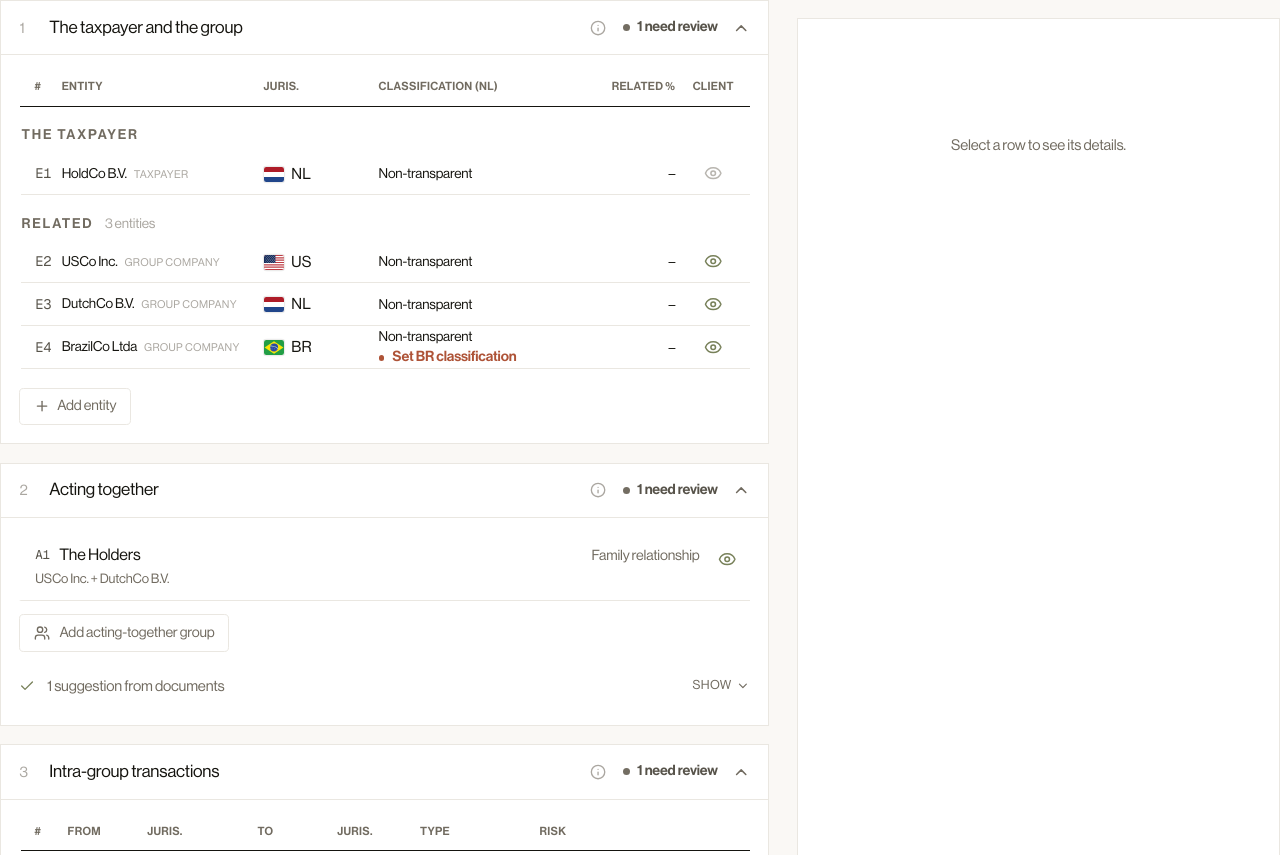
Test: FactsPanelV2 — acting together (section 2) › opens the group builder from the collapsed affordance
The image size is (1280, 855).
Click the button "Add acting-together group" at (124, 633), box [19,614,229,652]
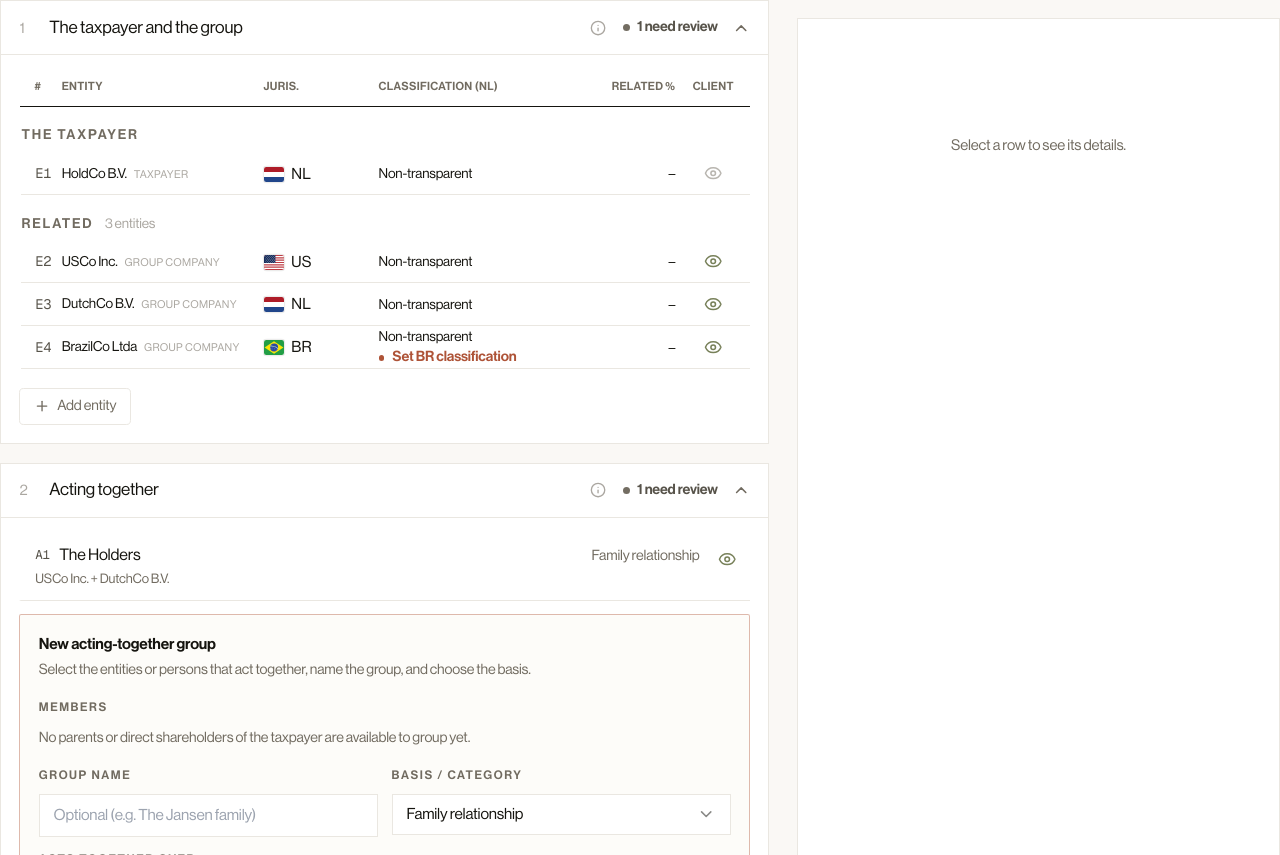
Expected: the text "New acting-together group" is shown, [39,637,216,653]
